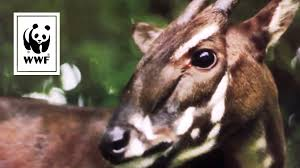sao_la: (99, 1, 298, 168)
